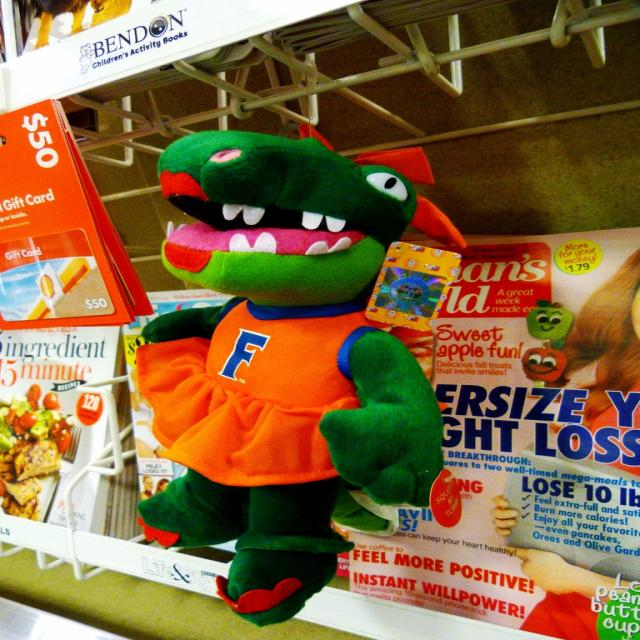Toy: (120, 118, 449, 631)
